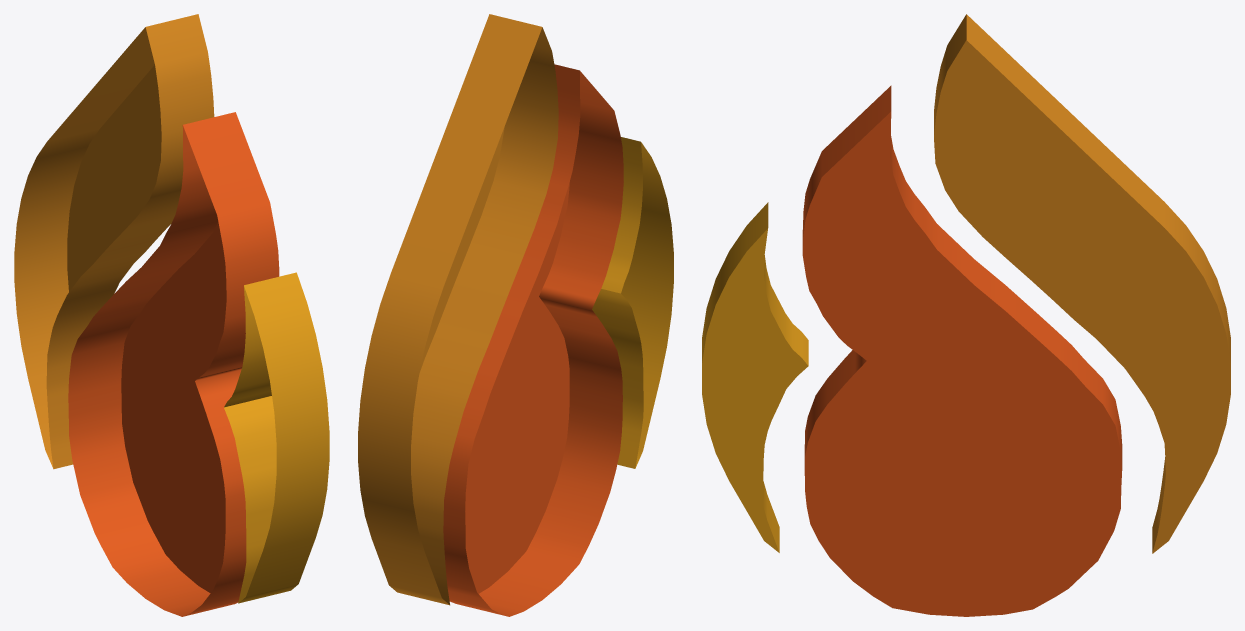
File: Gate_Fire.fbx
3 renders of one model, left to right at view 1: azimuth 30°, elevation 25°; view 2: azimuth 150°, elevation 25°; view 3: azimuth 270°, elevation 25°, orthographic.
Visible parts, largest first — view 1: polySurface17; view 2: polySurface17; view 3: polySurface17.
Boxes of the visible parts, <box> form: polySurface17: <box>14,14,329,616</box>; polySurface17: <box>358,14,673,616</box>; polySurface17: <box>702,14,1230,616</box>.
Bounding box in the file's own units: 0.4441 × 4.59 × 3.81.
